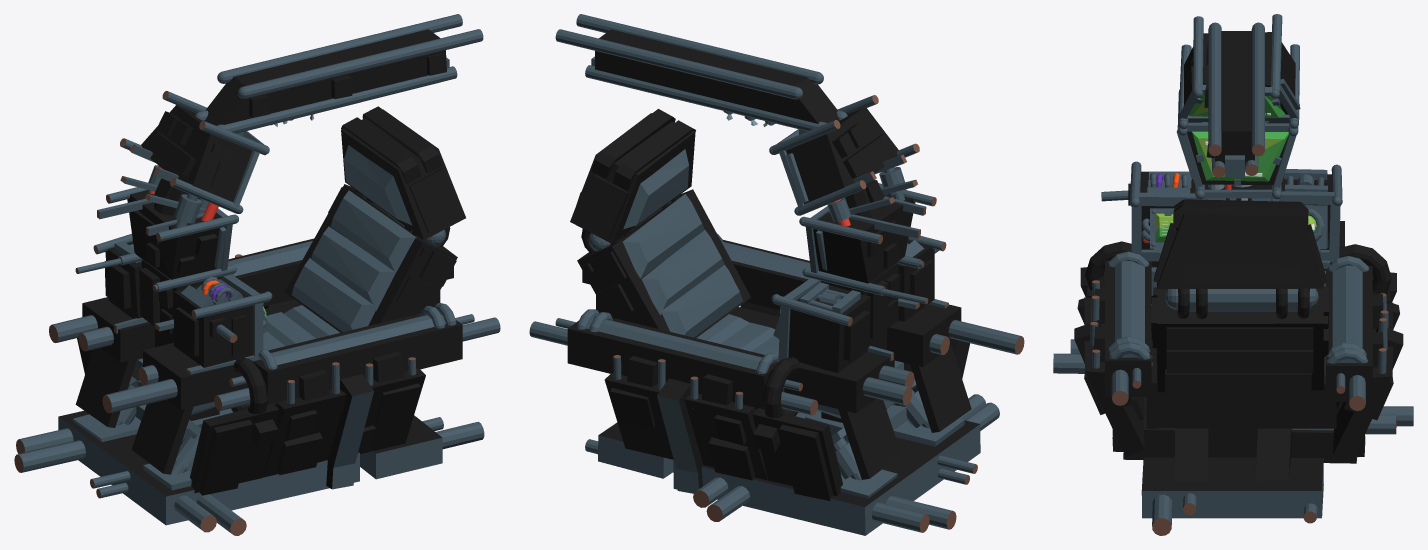
The model's file is Cockpit.glb.
3 renders of one model, left to right at view 1: azimuth 30°, elevation 25°; view 2: azimuth 150°, elevation 25°; view 3: azimuth 270°, elevation 25°, orthographic. The views are drawn at different scales.
Visible parts, largest first — view 1: group406827414, group1138742491, group1834825337, group543377150, group25773544, group83989273, group177384171, group761510747, group575590932, group1109952408, group840272427, group788746964 (+30 smaller); view 2: group25773544, group1138742491, group1834825337, group406827414, group543377150, group2087180504, group840272427, group177384171, group361278823, group1287486240, group761510747, group1109952408 (+30 smaller); view 3: group406827414, group25773544, group1031530790, group310347979, group664699185, group543377150, group177384171, group1138742491, group1834825337, group1225946502, group1541984511, group2026944177 (+24 smaller).
Part boxes in pixels (<box>): group406827414: <box>131,313,500,495</box>; group1138742491: <box>14,410,359,535</box>; group1834825337: <box>204,29,445,125</box>; group543377150: <box>97,187,238,292</box>; group25773544: <box>75,238,314,427</box>; group83989273: <box>174,274,272,367</box>; group177384171: <box>285,184,457,332</box>; group761510747: <box>331,190,416,271</box>; group575590932: <box>238,29,483,98</box>; group1109952408: <box>311,226,396,310</box>; group840272427: <box>141,105,252,201</box>; group788746964: <box>291,258,375,331</box>; group25773544: <box>529,317,901,500</box>; group1138742491: <box>673,394,999,535</box>; group1834825337: <box>595,29,839,123</box>; group406827414: <box>721,240,971,432</box>; group543377150: <box>799,183,936,283</box>; group2087180504: <box>771,278,870,372</box>; group840272427: <box>786,107,898,203</box>; group177384171: <box>577,189,750,337</box>; group361278823: <box>784,351,894,413</box>; group1287486240: <box>555,29,802,99</box>; group761510747: <box>623,194,704,278</box>; group1109952408: <box>641,229,724,315</box>; group406827414: <box>1074,260,1152,456</box>; group25773544: <box>1326,265,1403,461</box>; group1031530790: <box>1141,457,1323,518</box>; group310347979: <box>1156,214,1323,289</box>; group664699185: <box>1146,340,1336,428</box>; group543377150: <box>1176,89,1298,199</box>; group177384171: <box>1156,284,1324,392</box>; group1138742491: <box>1053,339,1356,463</box>; group1834825337: <box>1215,31,1254,165</box>; group1225946502: <box>1166,350,1313,373</box>; group1541984511: <box>1166,327,1313,349</box>; group2026944177: <box>1165,369,1311,395</box>.
Size of the model in its own units: 1.51 by 1.36 by 1.08.
